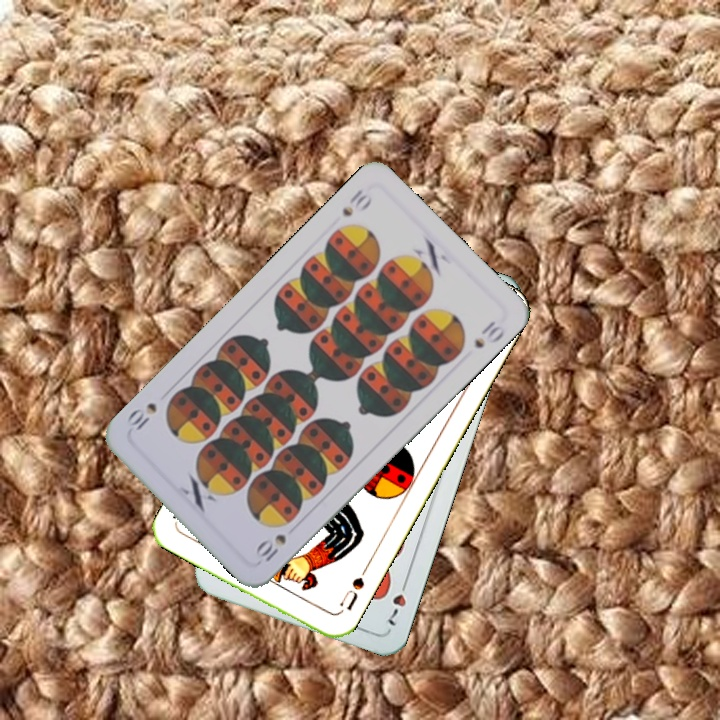H7: (382, 574, 411, 629)
S10: (338, 184, 375, 219), (254, 530, 289, 565)
SU: (334, 563, 370, 617)
